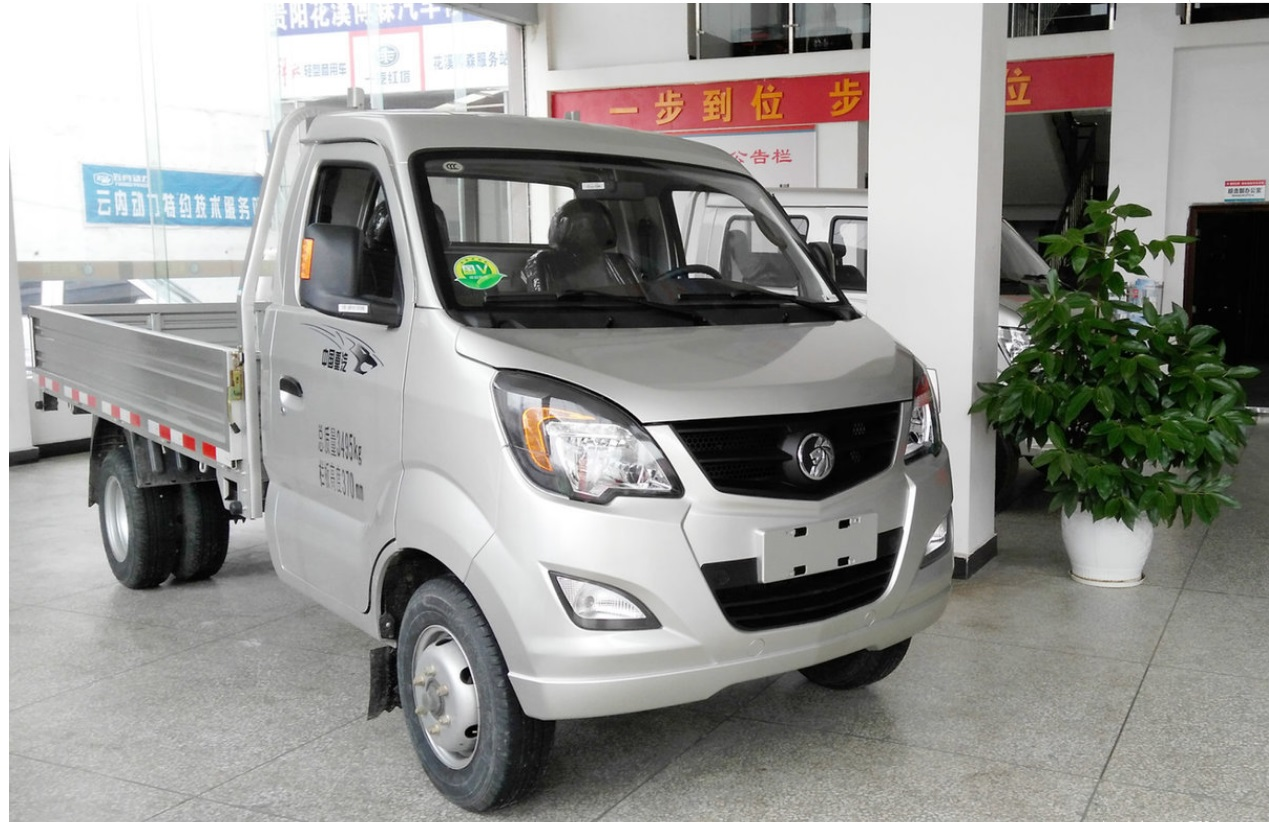truck: (21, 85, 962, 821)
